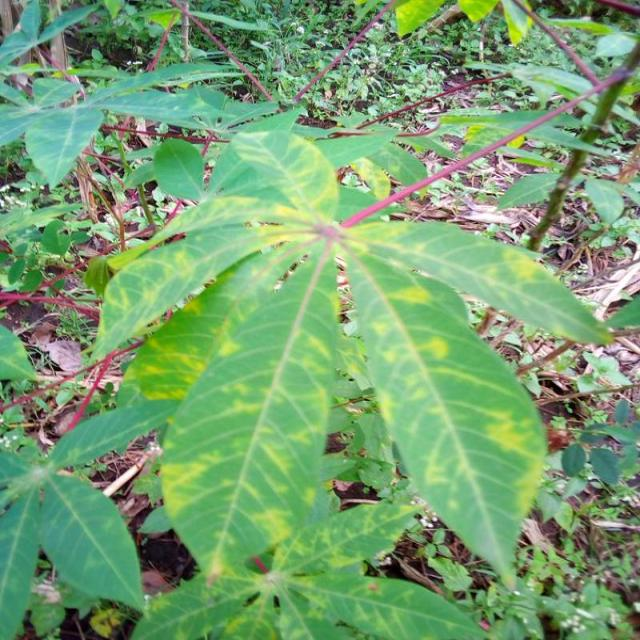cassava leaf: (83, 114, 613, 616), (342, 225, 550, 592), (158, 237, 340, 580)
